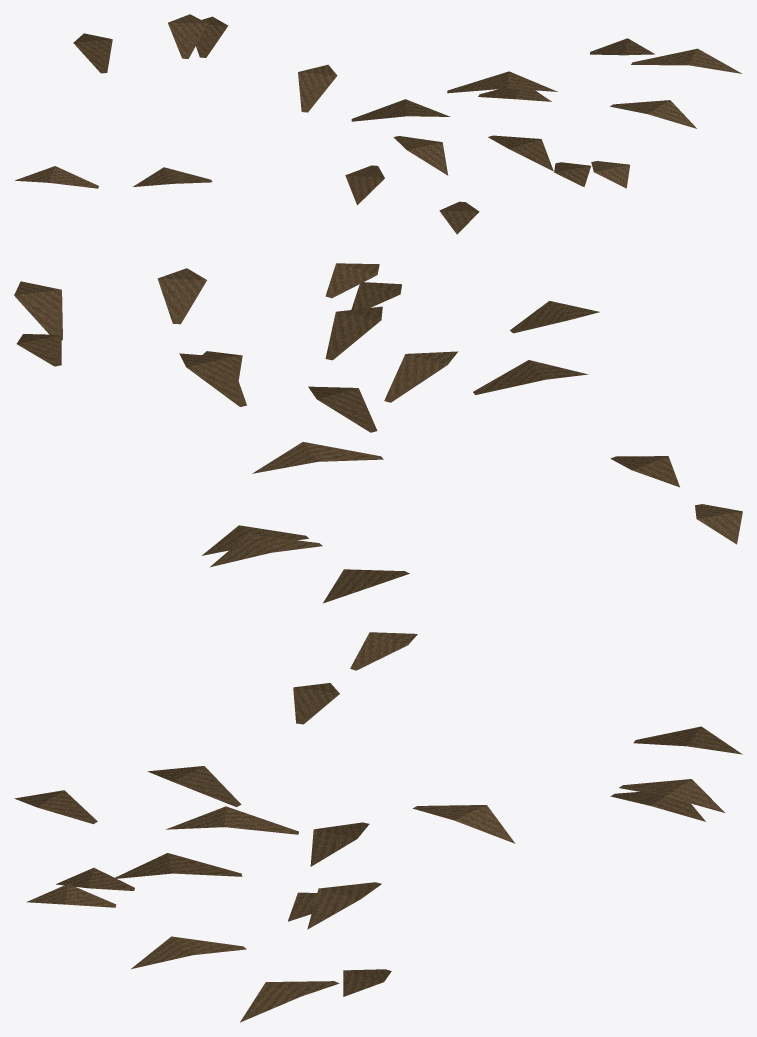
Rendered from env_ground_08_leaves_sparse.glb.
The picture shows the model from 3 angles, top to bottom: view 1: azimuth 30°, elevation 25°; view 2: azimuth 150°, elevation 25°; view 3: azimuth 270°, elevation 25°; orthographic projection. The views are drawn at different scales.
Visible parts, largest first — view 1: foliage; view 2: foliage; view 3: foliage.
Part boxes in pixels (left/top/right/bottom): foliage: left=15, top=14, right=742, bottom=234; foliage: left=14, top=263, right=742, bottom=603; foliage: left=14, top=632, right=742, bottom=1022.
Bounding box in the file's own units: 0.9329 × 0.0182 × 0.7382.
1 material, 1 textured.
